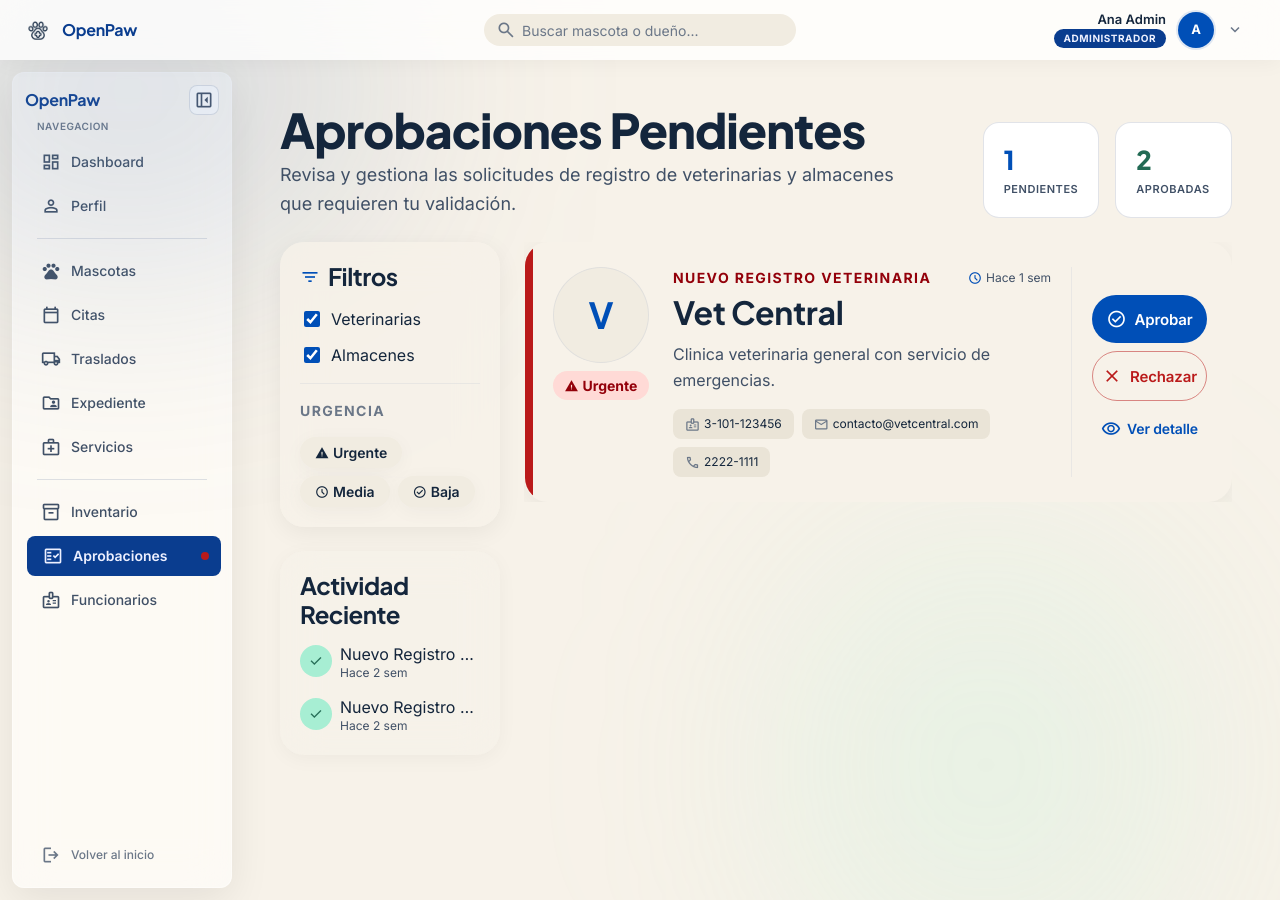
Test: ApprovalsListPage - feed de cards con urgencia y animacion (T33) › actividad reciente antepone la accion recien hecha (mitigacion local de sesion)
Expected: the heading "Vet Central" is shown, [673, 292, 844, 332]
Expected: the number of list items is 2, [300, 645, 480, 682]; [300, 698, 480, 735]
Click the button "Rechazar".
click(1150, 376)  # box [1092, 351, 1207, 401]
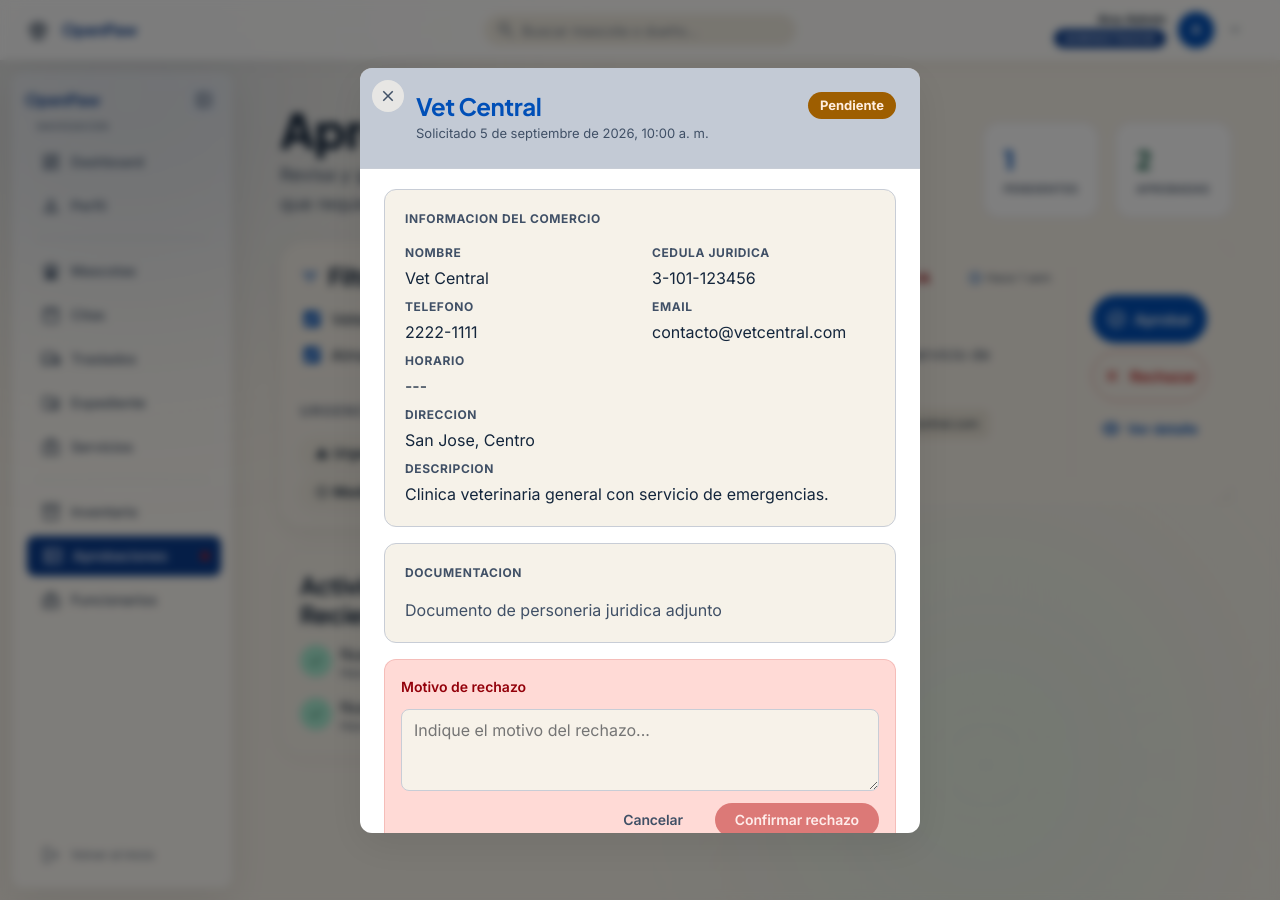
Type "Docs" into the text box labelled "Motivo de rechazo".
click(640, 750); type("Docs")  # box [401, 709, 879, 791]
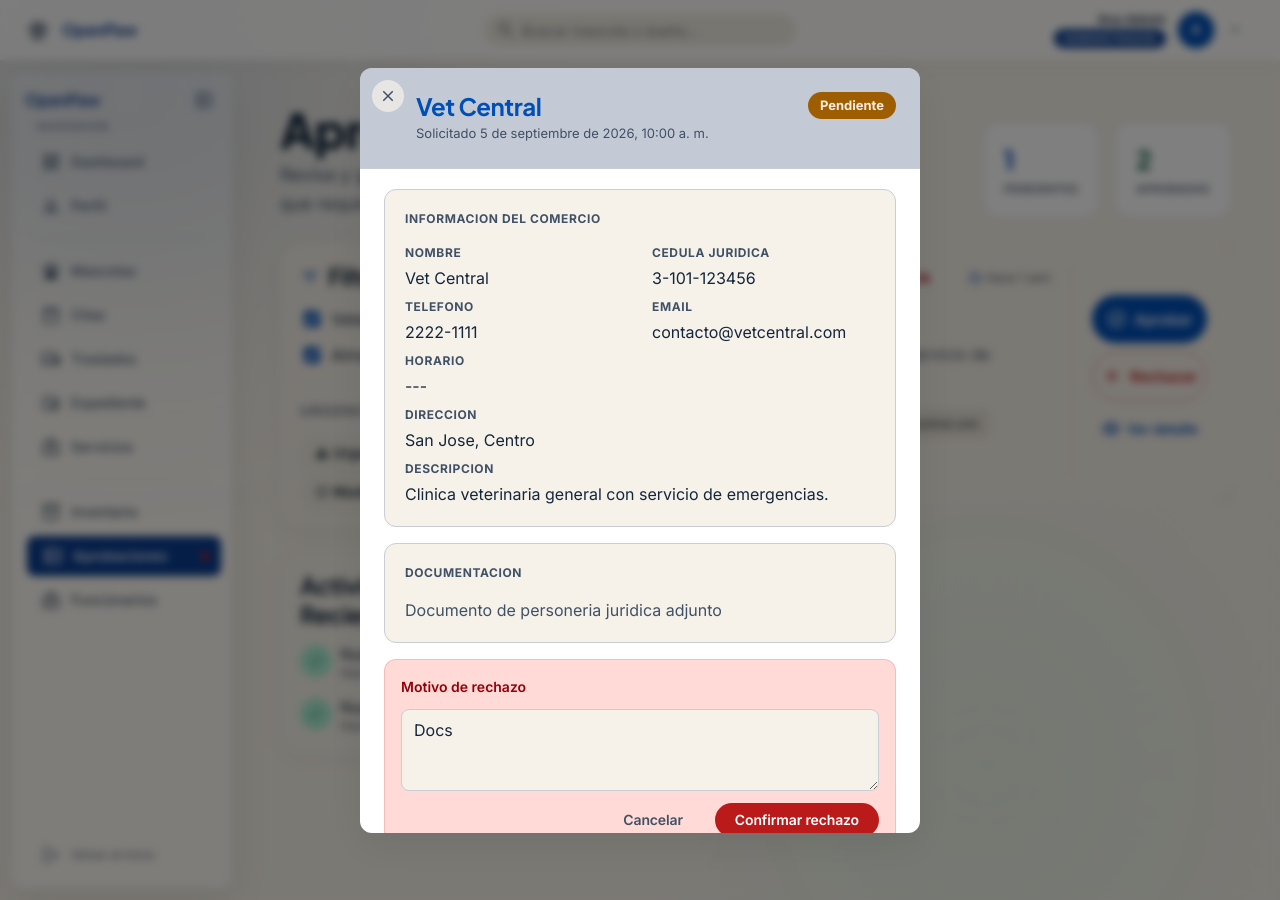
Click the button "Confirmar rechazo".
click(797, 820)  # box [715, 803, 879, 837]
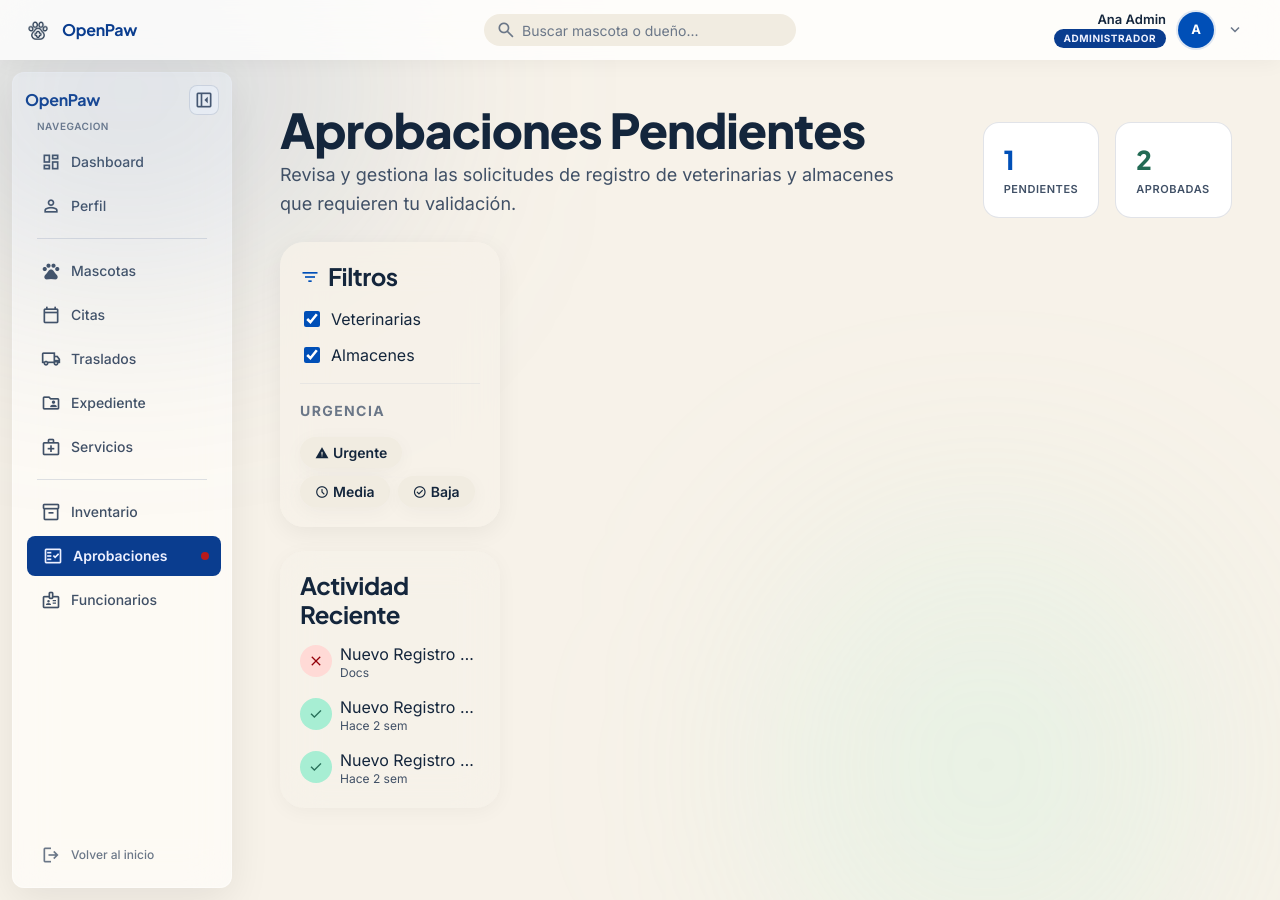
Expected: the number of list items is 3, [300, 645, 480, 682]; [300, 698, 480, 735]; [300, 751, 480, 788]
Expected: the list item "Nuevo Registro Veterinaria de \"Vet Central\" rechazado Docs" is shown, [300, 645, 480, 682]
